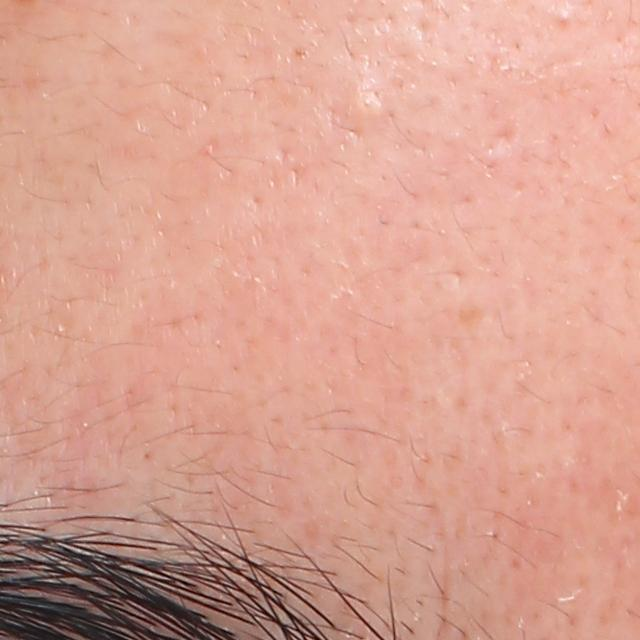comedo: (352, 89, 388, 119), (552, 8, 580, 31)
